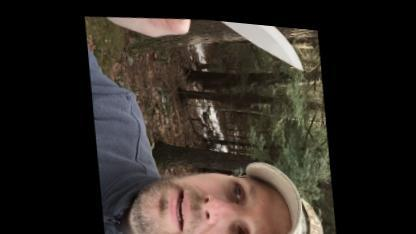knife: (145, 11, 308, 81)
